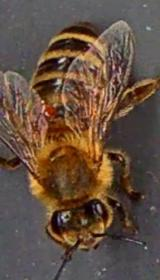varroa_mite: (34, 98, 56, 120)
